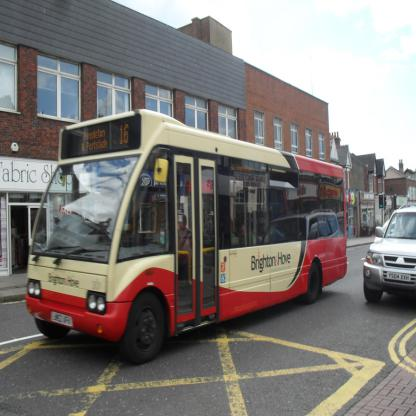Bus: (25, 109, 347, 365)
